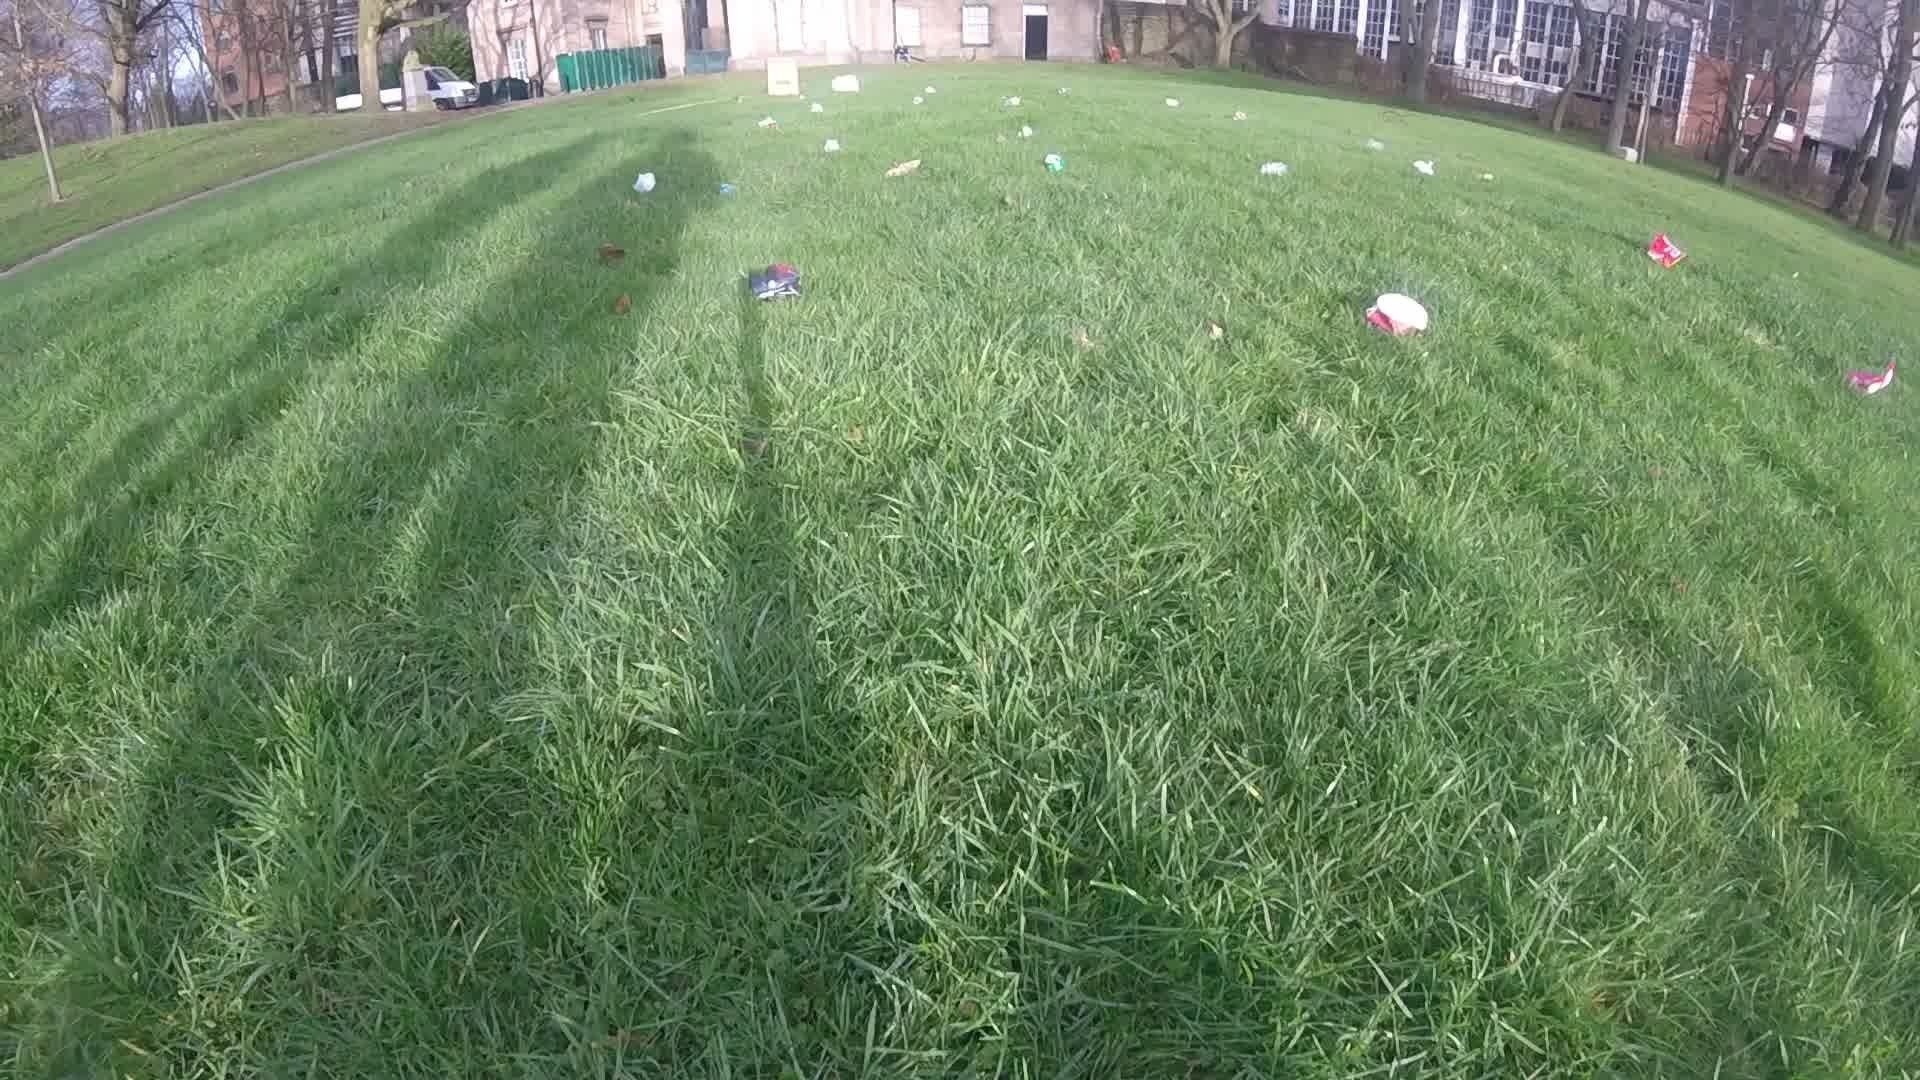litter: (1369, 291, 1433, 335), (744, 265, 799, 298), (1853, 363, 1896, 400), (764, 57, 800, 95), (1648, 236, 1687, 266), (890, 160, 924, 183), (832, 71, 858, 94), (634, 171, 657, 196), (1408, 158, 1435, 175), (1262, 160, 1288, 175), (1043, 154, 1064, 174), (1366, 140, 1393, 153), (1474, 169, 1495, 185), (1162, 94, 1183, 108), (820, 138, 843, 152), (1229, 108, 1247, 124), (712, 185, 738, 195), (753, 120, 778, 131), (1015, 127, 1033, 138), (1002, 96, 1022, 105), (810, 102, 825, 112), (924, 87, 938, 98), (911, 95, 920, 103)
